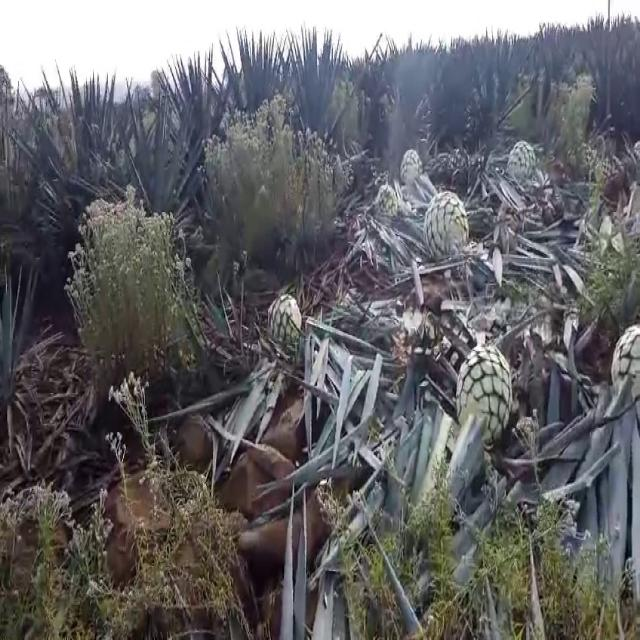agave: (451, 333, 516, 454), (422, 191, 472, 271), (610, 320, 640, 405), (264, 288, 302, 354), (506, 135, 536, 194), (373, 180, 398, 226), (396, 147, 423, 185)
